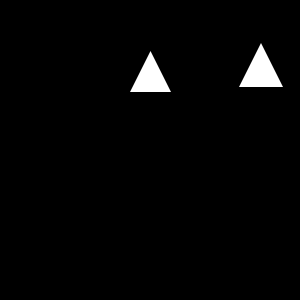triangle: (239, 43, 283, 87), (130, 51, 171, 92)
